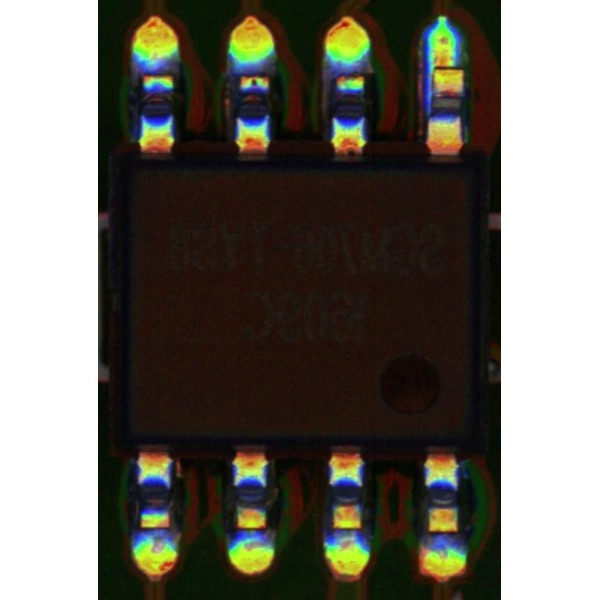Bad_podu: (433, 60, 456, 77)
Bad_qiaojiao: (425, 68, 434, 115)
